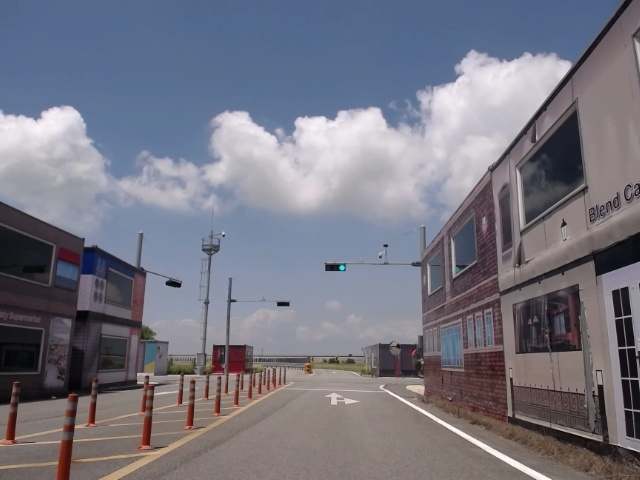green_3: (326, 264, 346, 272)
